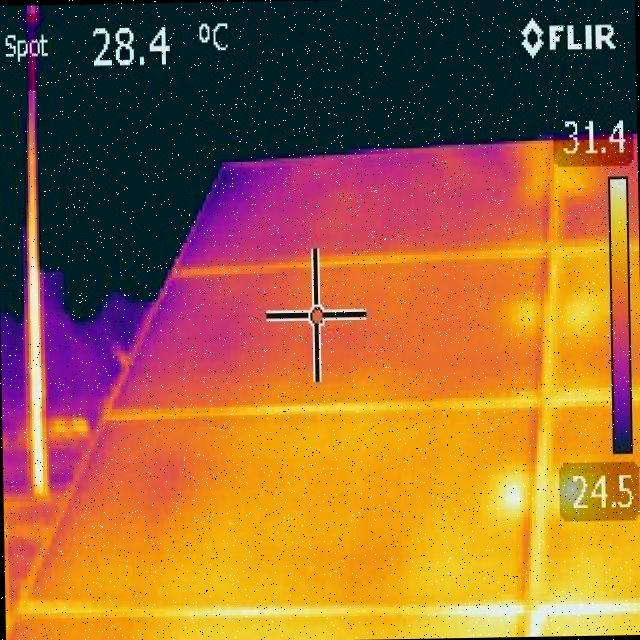Hotspot: (486, 456, 533, 536)
